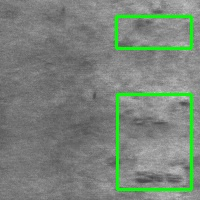rolled-in_scale: (117, 94, 191, 189), (116, 16, 191, 48)
